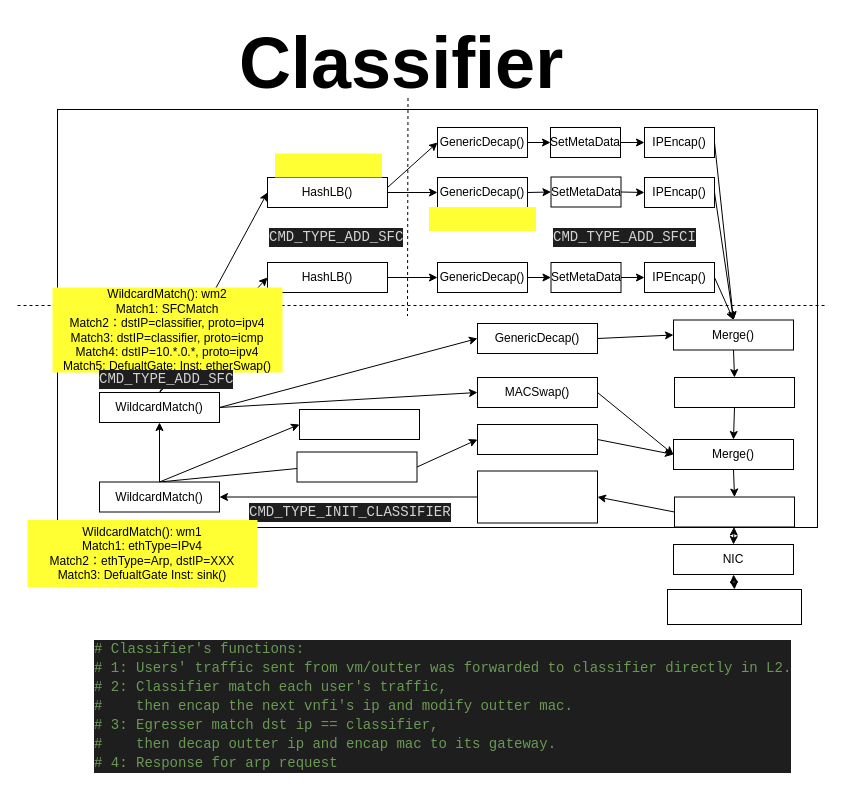
Image size: 846x790. Some labels were removed from this diagram. Here are the shapes that lost their labels. From the top down, the centre of each, then its label:
At (x=328, y=165): "sfcUUID_direction".
At (x=482, y=218): "SFCIID_direction".
At (x=734, y=392): "EtherEncap()".
At (x=359, y=424): "Sink()".
At (x=537, y=439): "ArpResponder()".
At (x=356, y=466): "BPF()".
At (x=537, y=496): "Setmetadata (original dst mac; original src mac)".
At (x=734, y=511): "PMDPort".
At (x=734, y=606): "Openflow Switch".
